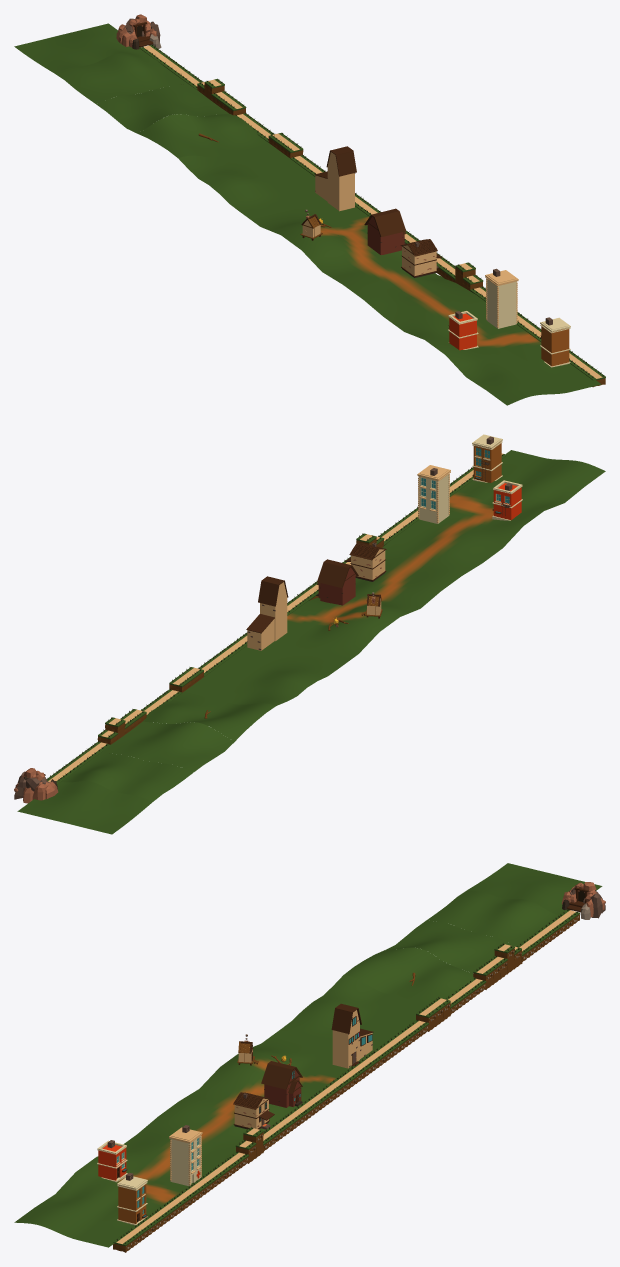
File: zona1 (2).fbx
3 renders of one model, top to bottom at view 1: azimuth 30°, elevation 25°; view 2: azimuth 150°, elevation 25°; view 3: azimuth 330°, elevation 25°, orthographic.
Parts seen in each view (by area): view 1: Plano, Plane.005, Hospital, Plano.001, Predio 1, Cube, Cube.097, Predio 2; view 2: Plano, Plane.005, Hospital, Plano.001, Predio 1, Cube, Cube.097, Predio 2; view 3: Plano, Plane.005, Hospital, Plano.001, Predio 1, Cube, Cube.097, Predio 2.
Boxes of the visible parts, left/top/right/bottom form: Plano: left=14, top=23, right=601, bottom=405; Plane.005: left=314, top=146, right=356, bottom=211; Hospital: left=485, top=268, right=518, bottom=328; Plano.001: left=364, top=208, right=406, bottom=254; Predio 1: left=540, top=317, right=570, bottom=367; Cube: left=400, top=239, right=442, bottom=277; Cube.097: left=116, top=14, right=161, bottom=49; Predio 2: left=448, top=311, right=478, bottom=350; Plano: left=17, top=450, right=605, bottom=834; Plane.005: left=246, top=576, right=288, bottom=650; Hospital: left=417, top=465, right=450, bottom=523; Plano.001: left=316, top=559, right=358, bottom=605; Predio 1: left=472, top=434, right=502, bottom=482; Cube: left=345, top=542, right=386, bottom=581; Cube.097: left=14, top=768, right=58, bottom=803; Predio 2: left=492, top=480, right=522, bottom=520; Plano: left=14, top=863, right=602, bottom=1247; Plane.005: left=331, top=1003, right=373, bottom=1068; Hospital: left=169, top=1125, right=202, bottom=1186; Plano.001: left=261, top=1061, right=302, bottom=1107; Predio 1: left=117, top=1172, right=147, bottom=1225; Cube: left=233, top=1092, right=274, bottom=1129; Cube.097: left=561, top=882, right=605, bottom=919; Predio 2: left=97, top=1140, right=127, bottom=1182.
Bounding box in the file's own units: 4816 × 2532 × 34718.
Materials: 14 (14 with a texture image).
